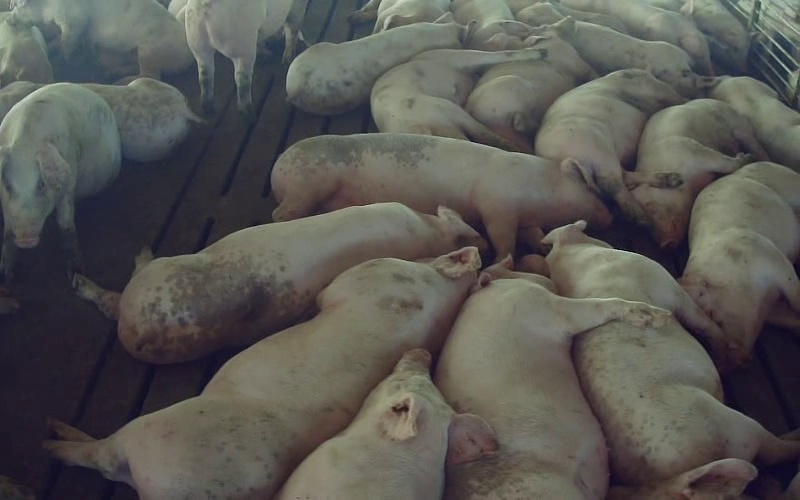pig: (45, 247, 477, 499), (545, 222, 799, 499), (435, 258, 669, 499), (271, 133, 611, 259), (278, 349, 496, 499), (680, 163, 799, 367), (0, 83, 120, 280), (535, 69, 685, 221), (632, 99, 767, 248), (286, 13, 466, 114), (465, 18, 596, 152), (371, 49, 541, 148), (12, 0, 192, 78)
